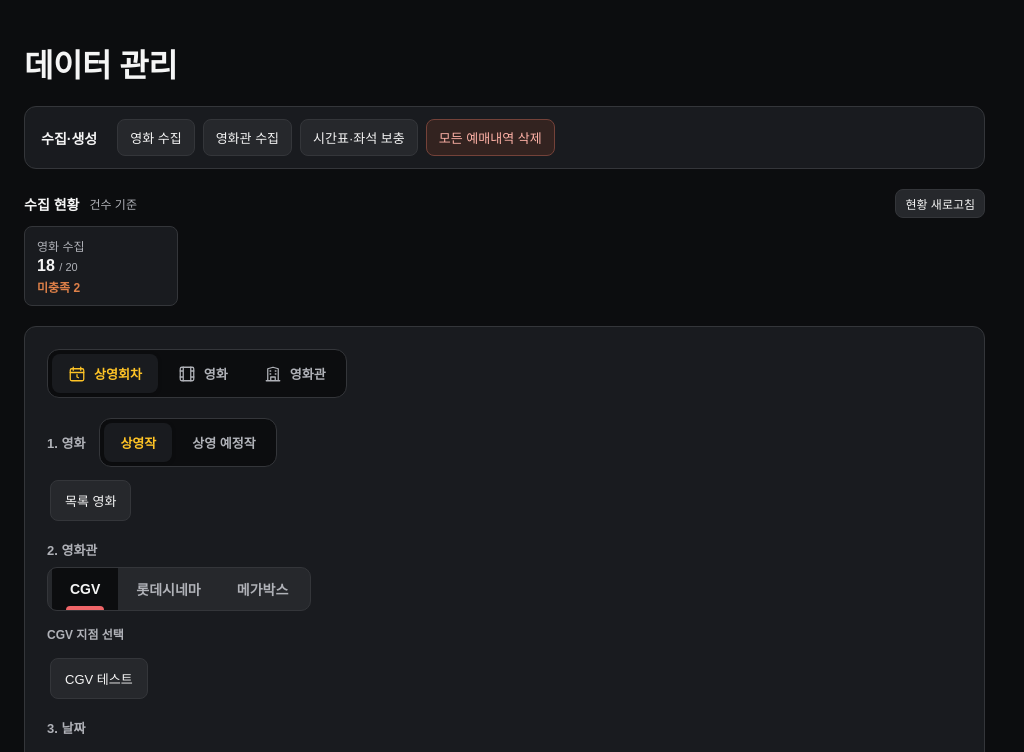
Test: collection counts show deficits, do not refetch on tabs, and recover from errors
Expected: the text "미충족 2" is shown, [37, 281, 80, 295]
Click the tab "영화".
click(203, 374)  # box [162, 354, 244, 393]
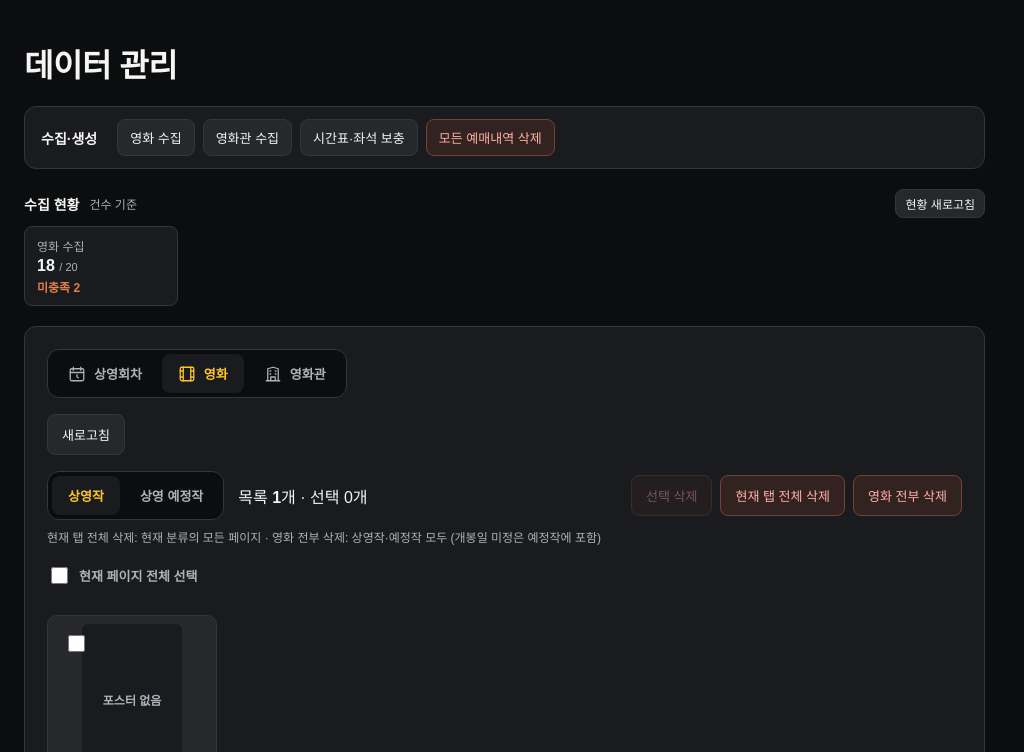
Click the button "현황 새로고침".
click(940, 204)  # box [895, 189, 985, 218]
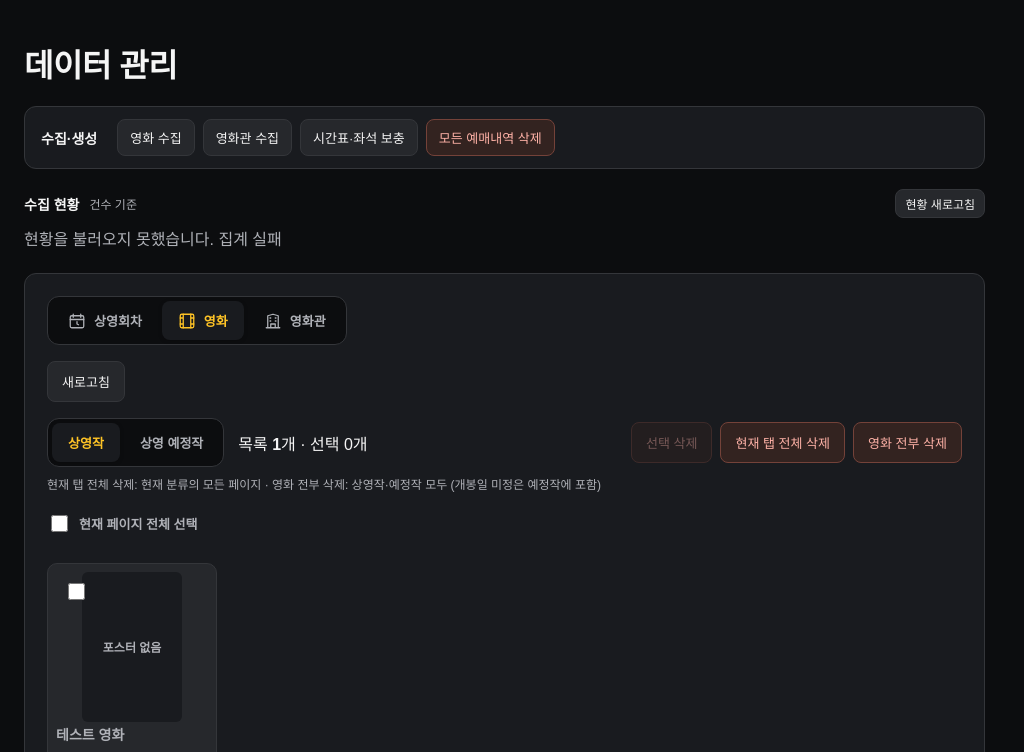
Now the text "현황을 불러오지 못했습니다. 집계 실패" is shown, box [24, 231, 282, 248]
Now the text "미충족 2" is gone
Click the button "현황 새로고침".
click(940, 204)  # box [895, 189, 985, 218]
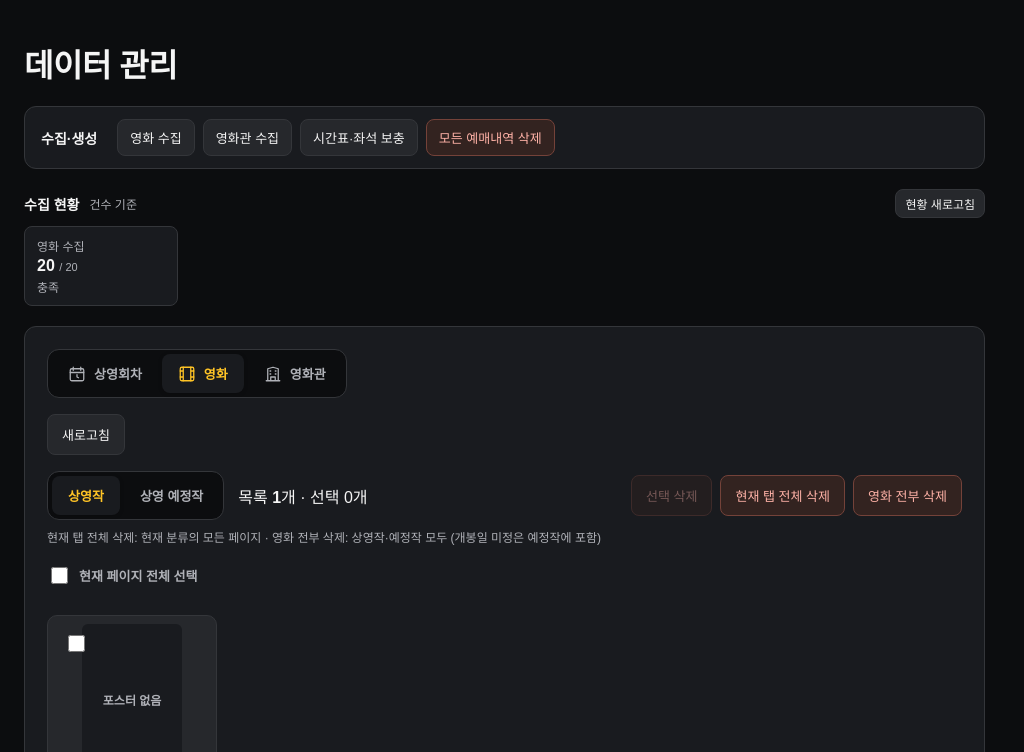
Now the text "충족" is shown, box [37, 281, 59, 295]
